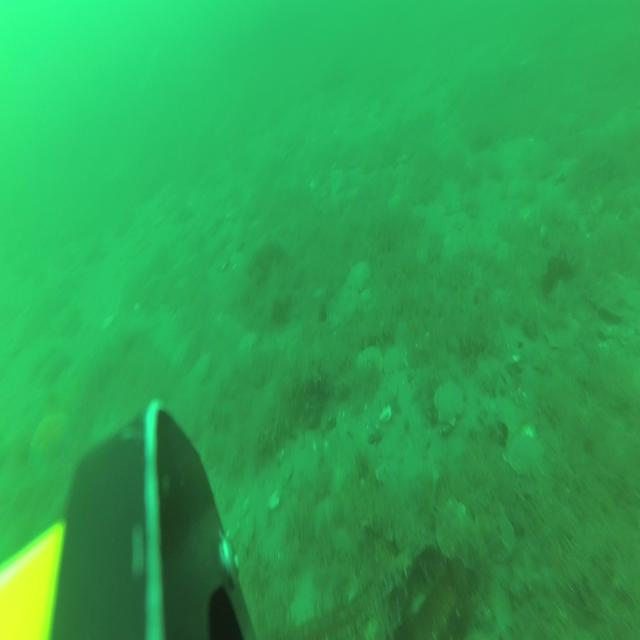scallop: (475, 496, 516, 566), (435, 496, 469, 564), (503, 429, 545, 479), (543, 308, 582, 353), (434, 376, 464, 428), (356, 345, 384, 381), (349, 258, 373, 295), (193, 351, 212, 384), (239, 330, 257, 360)
starfish: (26, 409, 73, 475)
